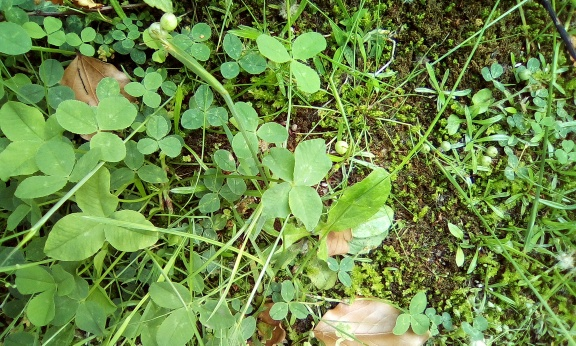4leaf: (260, 137, 332, 233)
